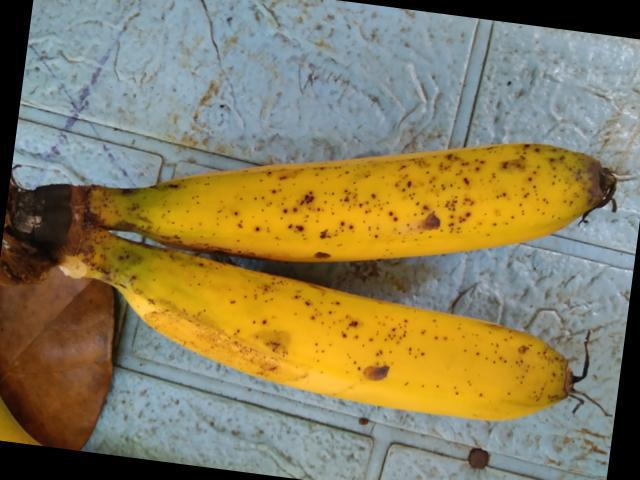ripe: (139, 263, 633, 479), (127, 129, 608, 289)
